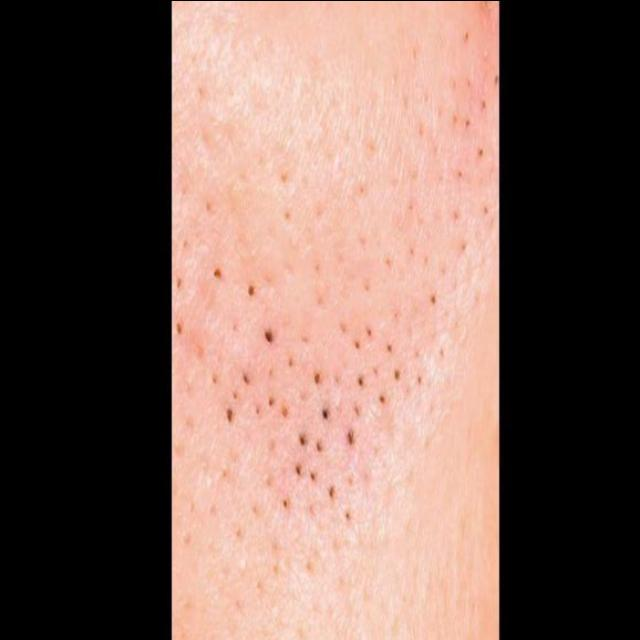blackhead: (201, 211, 444, 543)
